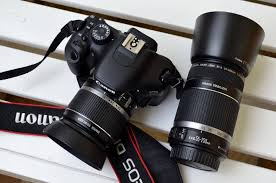camera: (57, 20, 174, 166)
